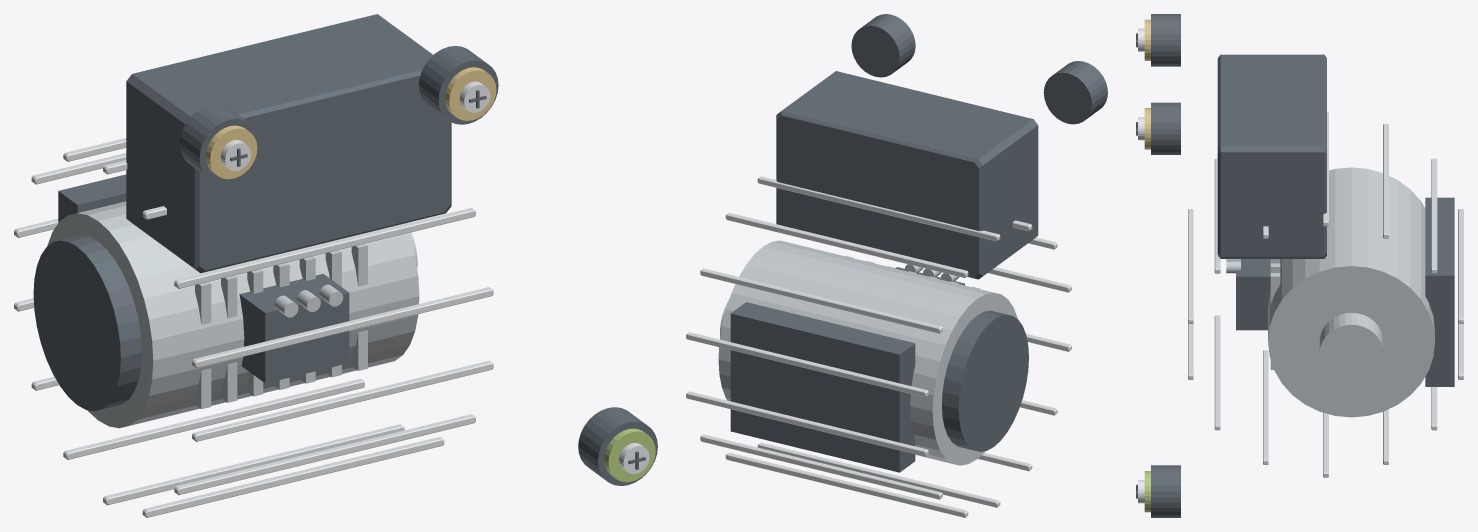
The model's file is motor1Phase.glb.
3 renders of one model, left to right at view 1: azimuth 30°, elevation 25°; view 2: azimuth 150°, elevation 25°; view 3: azimuth 270°, elevation 25°, orthographic. The views are drawn at different scales.
Parts seen in each view (by area): view 1: motor1Phase-detailed; view 2: motor1Phase-detailed; view 3: motor1Phase-detailed.
Boxes of the visible parts, <box> form: motor1Phase-detailed: <box>14,14,657,517</box>; motor1Phase-detailed: <box>686,14,1107,517</box>; motor1Phase-detailed: <box>1136,14,1463,517</box>.
Bounding box in the file's own units: 2.4 × 2.33 × 1.96.
